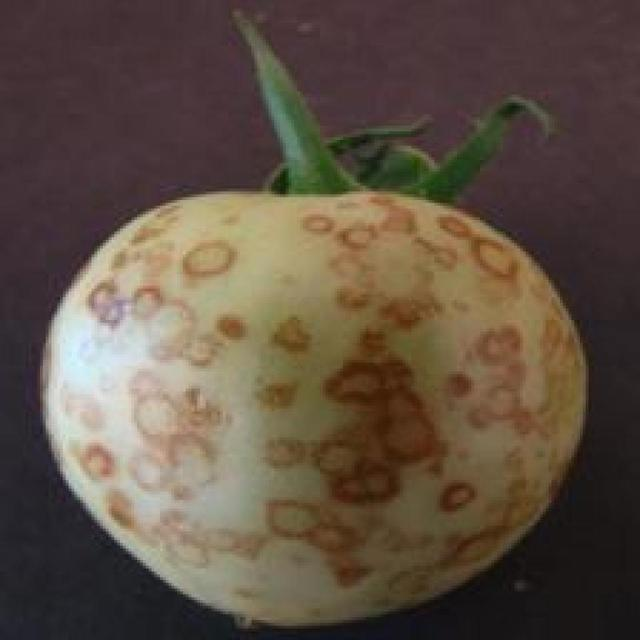Spotted wilt Virus Fruit: (24, 123, 389, 413)
